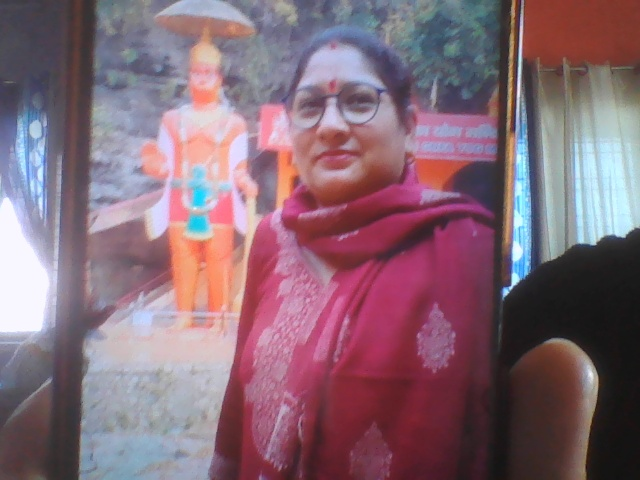fake: (276, 1, 420, 205)
